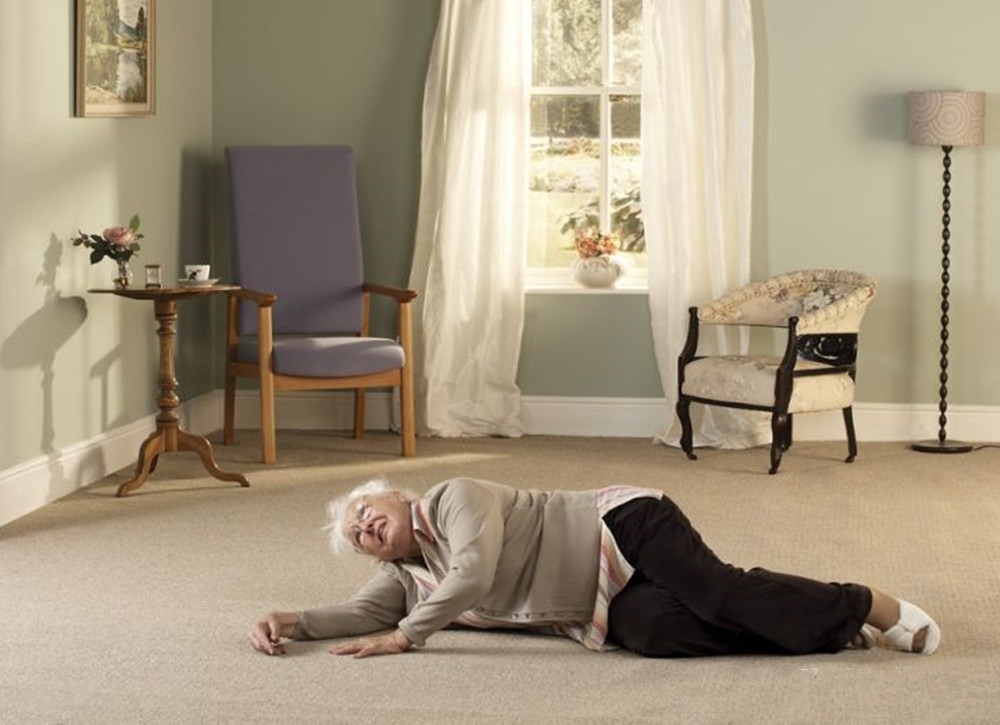falling: (225, 458, 960, 692)
